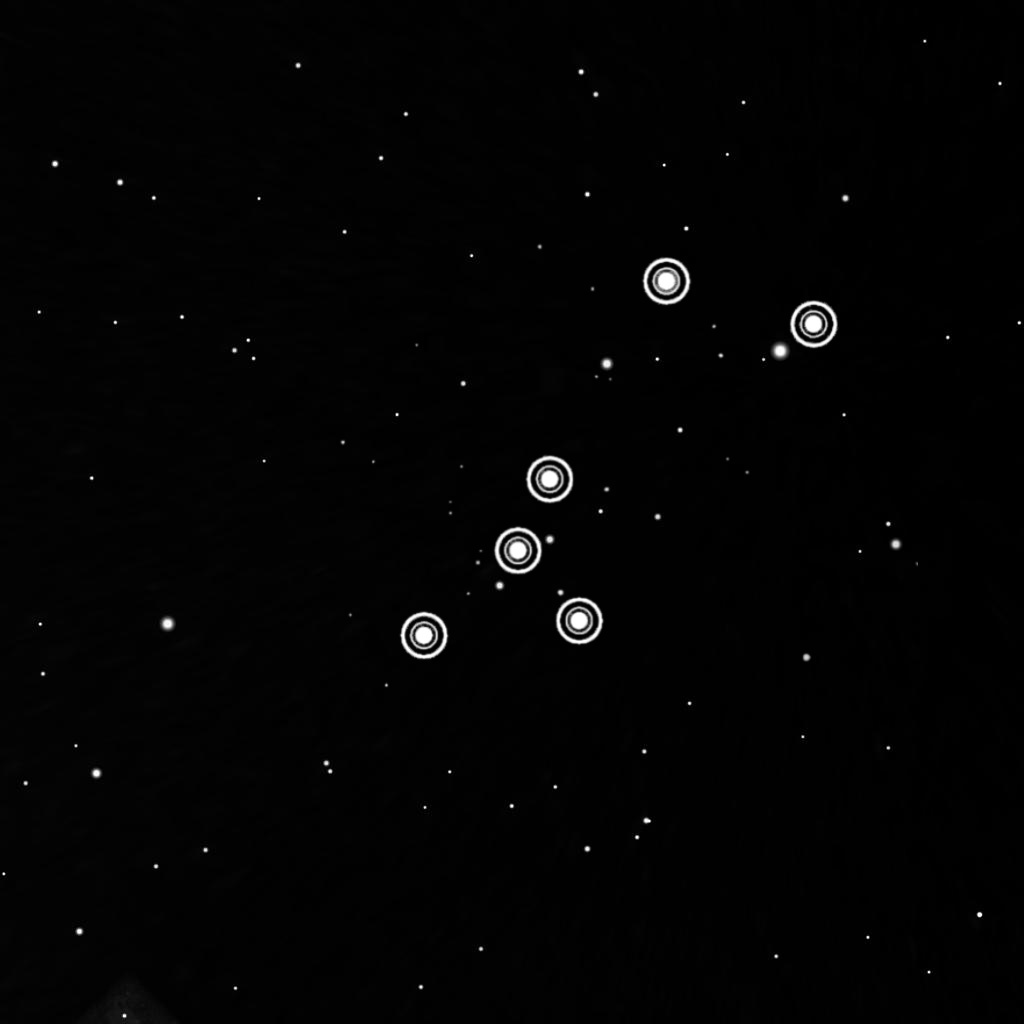canis_major: (384, 246, 845, 674)
